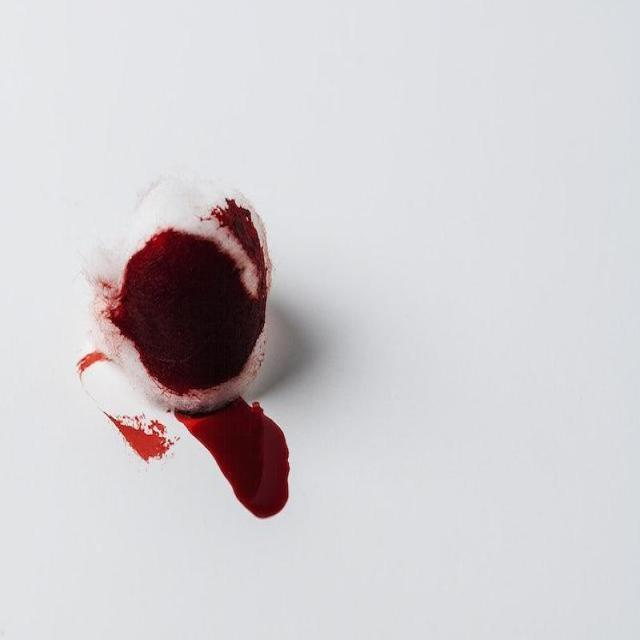flood: (83, 194, 344, 538)
